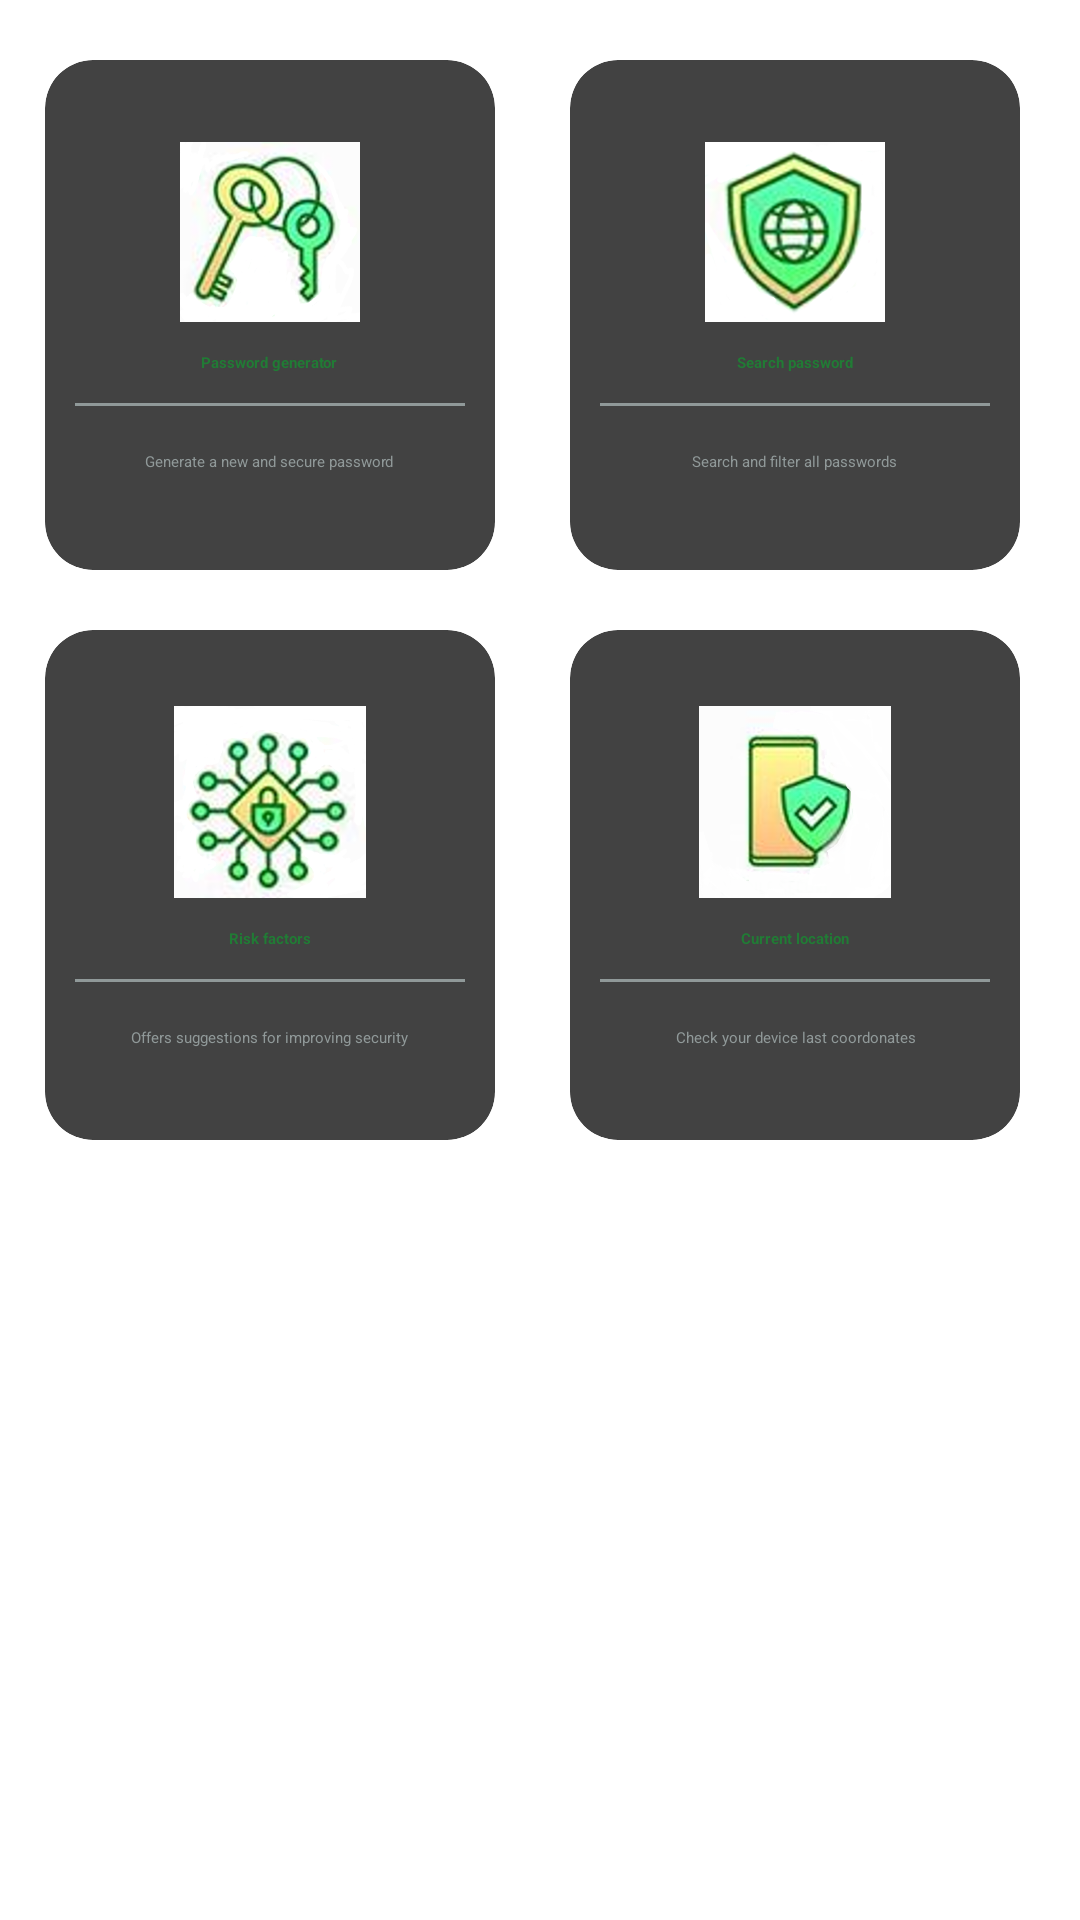

Icon bounding boxes for this 1080px x 1920px phone screenshot, format (x1, y1, x2, y2):
key: (180, 142, 360, 322)
